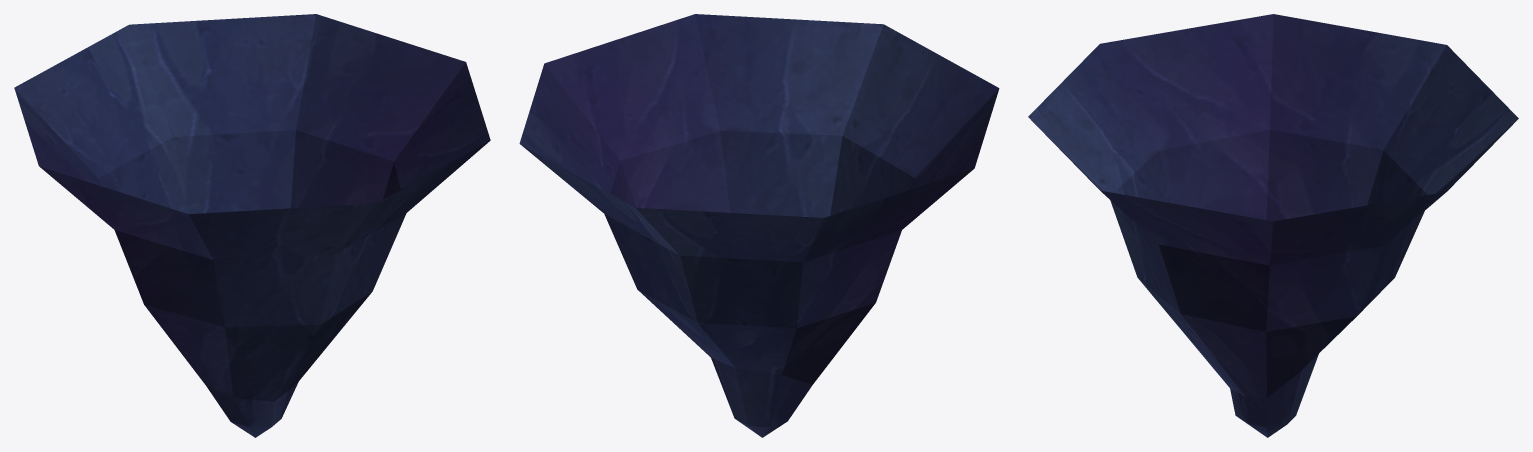
The model's file is scenes_cave_stalagmite01a.FBX.
The picture shows the model from 3 angles, left to right: view 1: azimuth 30°, elevation 25°; view 2: azimuth 150°, elevation 25°; view 3: azimuth 270°, elevation 25°; orthographic projection.
Parts seen in each view (by area): view 1: scenes_cave_stalagmite01a; view 2: scenes_cave_stalagmite01a; view 3: scenes_cave_stalagmite01a.
Part boxes in pixels (x1=…): scenes_cave_stalagmite01a: x1=14, y1=14, x2=490, y2=437; scenes_cave_stalagmite01a: x1=519, y1=14, x2=999, y2=437; scenes_cave_stalagmite01a: x1=1028, y1=14, x2=1518, y2=437.
Size of the model in its own units: 310 by 224 by 310.
